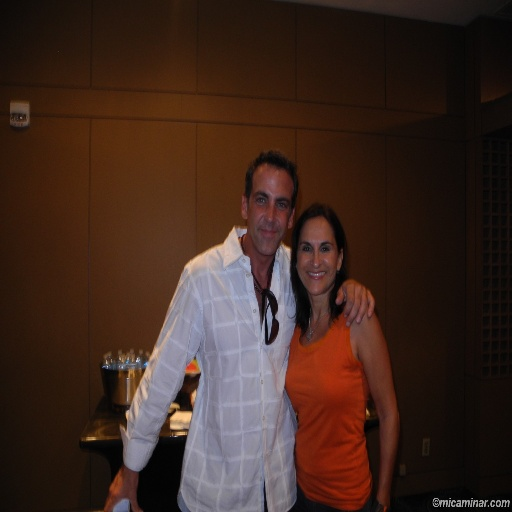hand: (336, 275, 375, 326), (103, 467, 142, 511)
